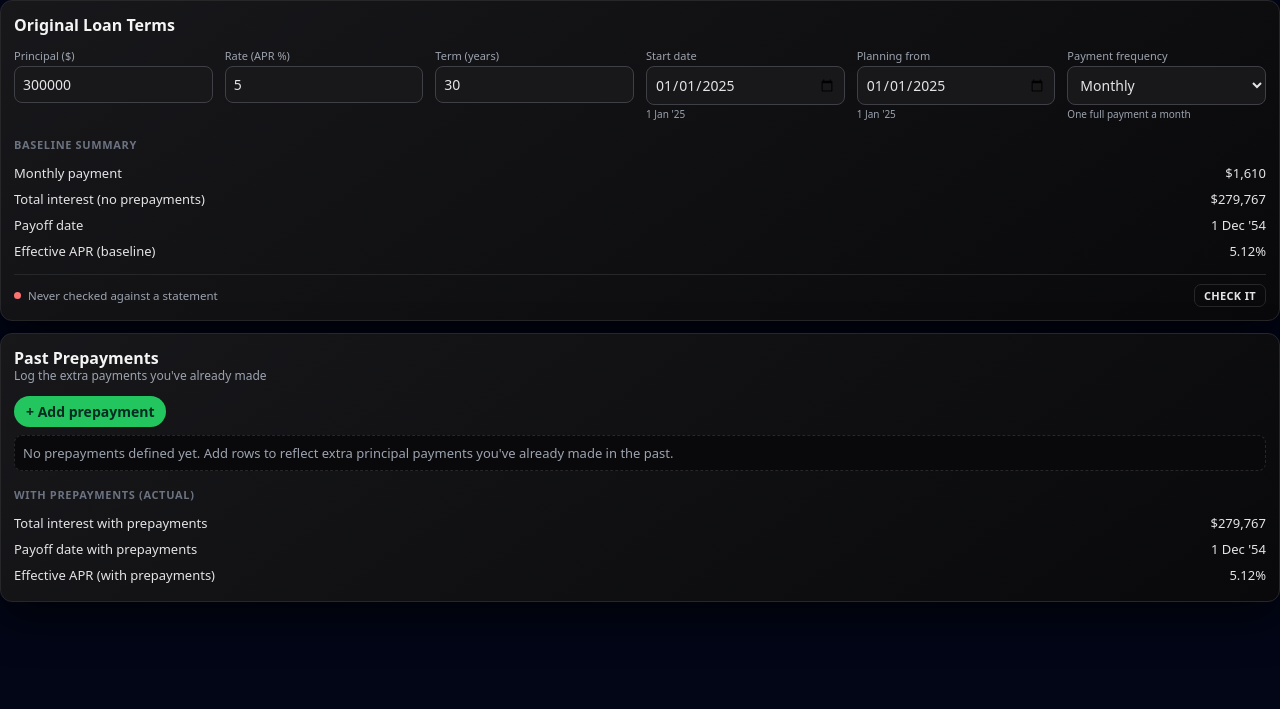
Scenario: MortgageTab › adds a prepayment, shows savings, then deletes it
Click the button "+ Add prepayment".
click(90, 412)  # box [14, 396, 166, 427]
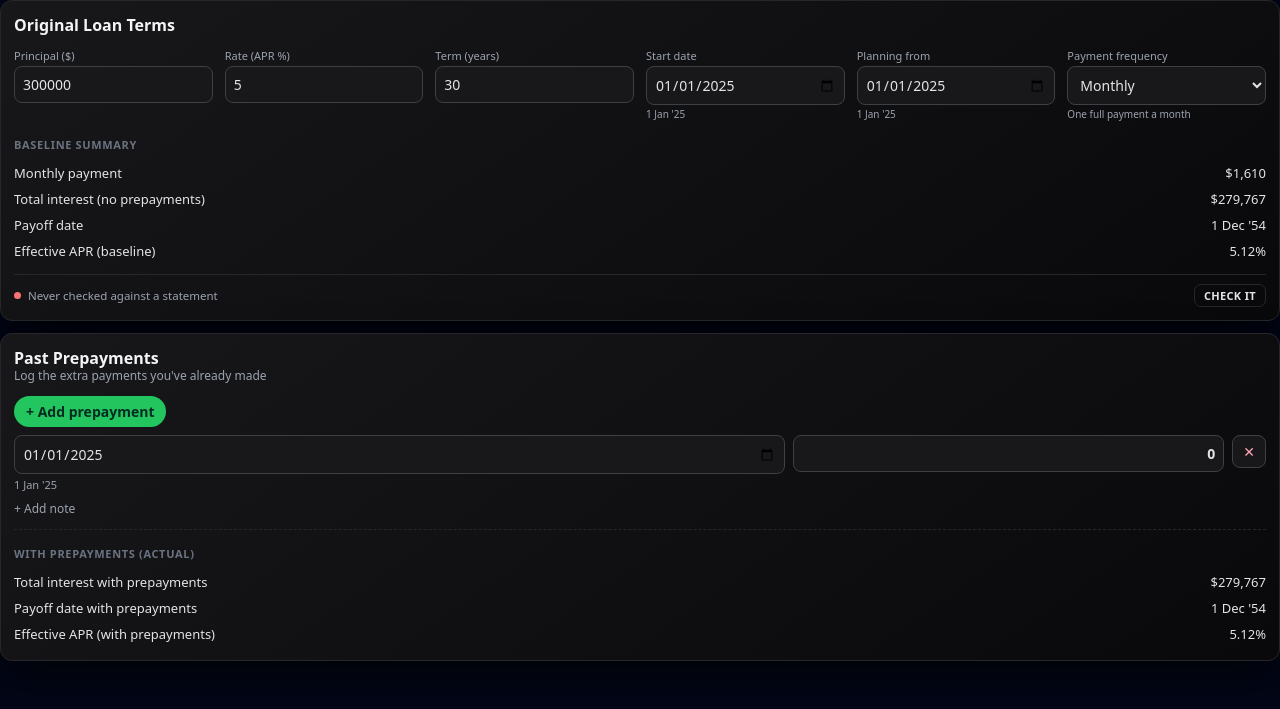
Replace the text in the field showing "0" with "20000" at (1008, 454), box [793, 435, 1224, 472]
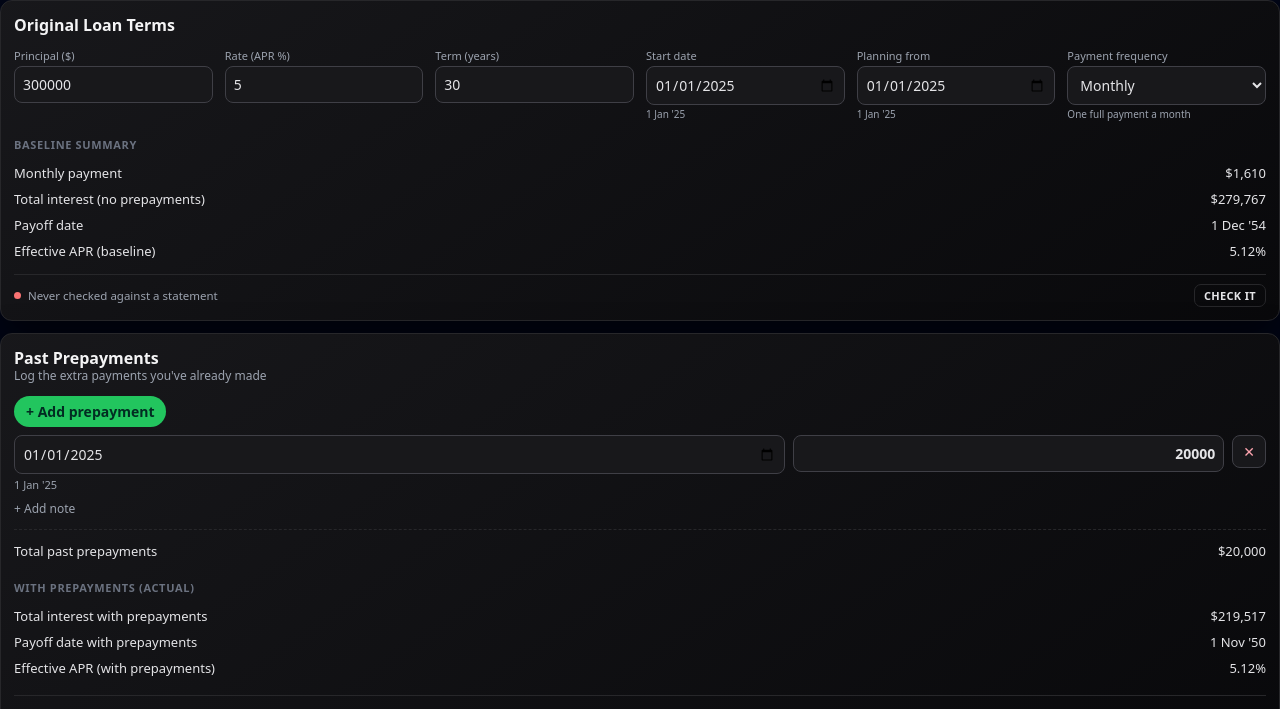
Expected: the text "Total past prepayments" is shown, [14, 542, 157, 560]
// Delete it.
Click the button "✕".
click(1249, 452)  # box [1232, 435, 1266, 468]
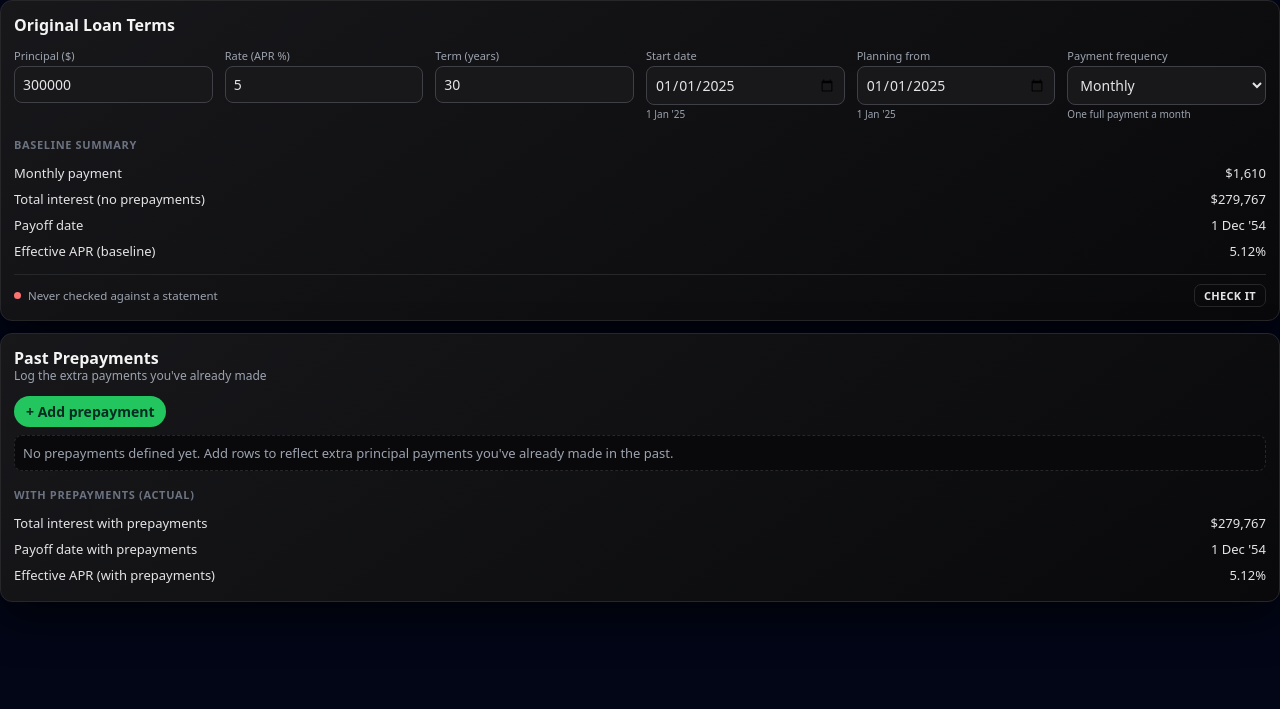
Expected: the text "No prepayments defined yet" is shown, [23, 444, 674, 462]
